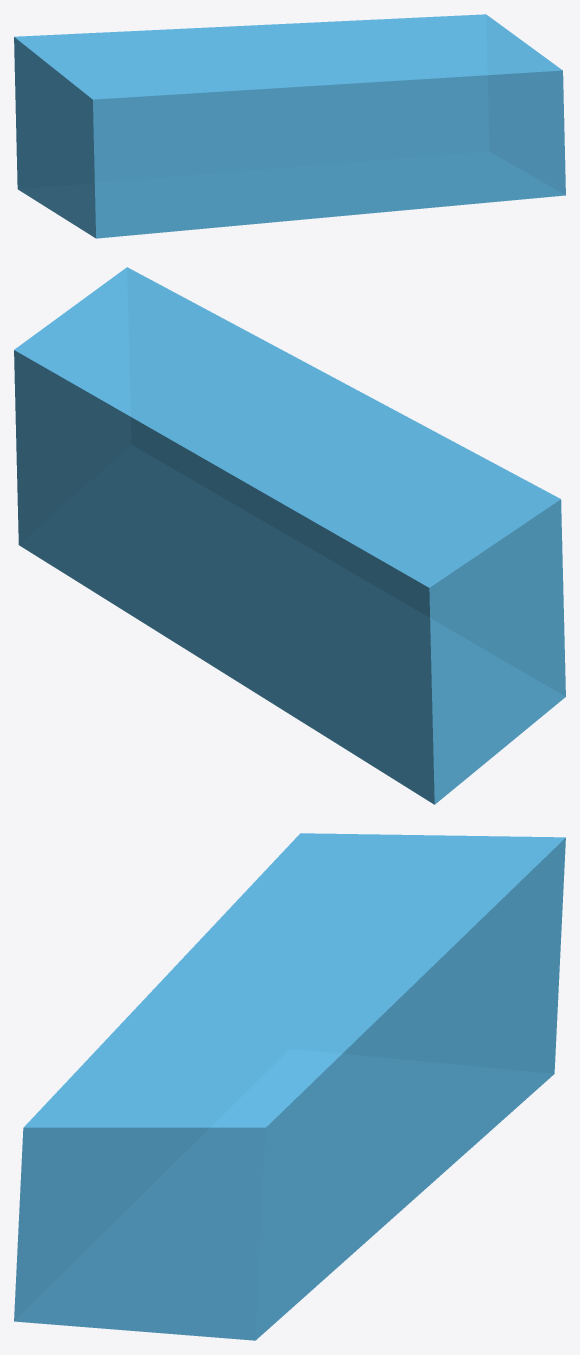
Rendered from Event_421556567_HErechit_4.fbx.
3 views of the same model, one above another, from view 1: azimuth 30°, elevation 25°; view 2: azimuth 150°, elevation 25°; view 3: azimuth 270°, elevation 25° (orthographic). The views are drawn at different scales.
Visible parts, largest first — view 1: Model; view 2: Model; view 3: Model.
Part boxes in pixels (left/top/right/bottom): Model: left=14, top=14, right=565, bottom=238; Model: left=14, top=267, right=565, bottom=804; Model: left=14, top=833, right=565, bottom=1340.
Bounding box in the file's own units: 1.15 × 0.4304 × 0.9099.
